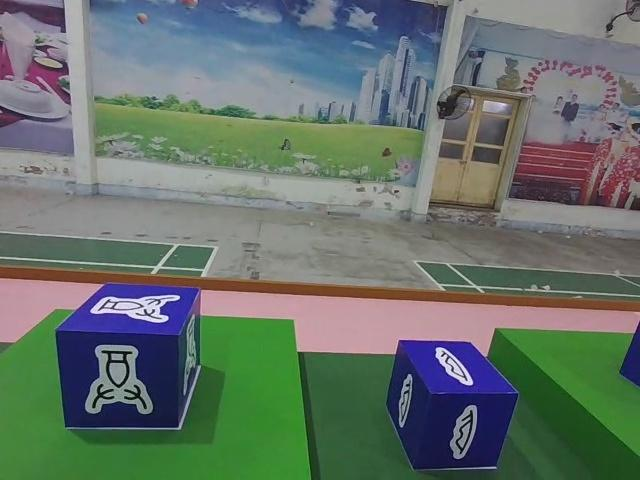R2 Real Blue: (55, 283, 200, 430), (386, 339, 516, 472)
